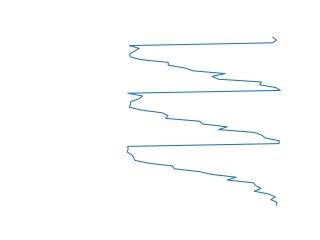distributaryMouthBar: (124, 36, 284, 207)
